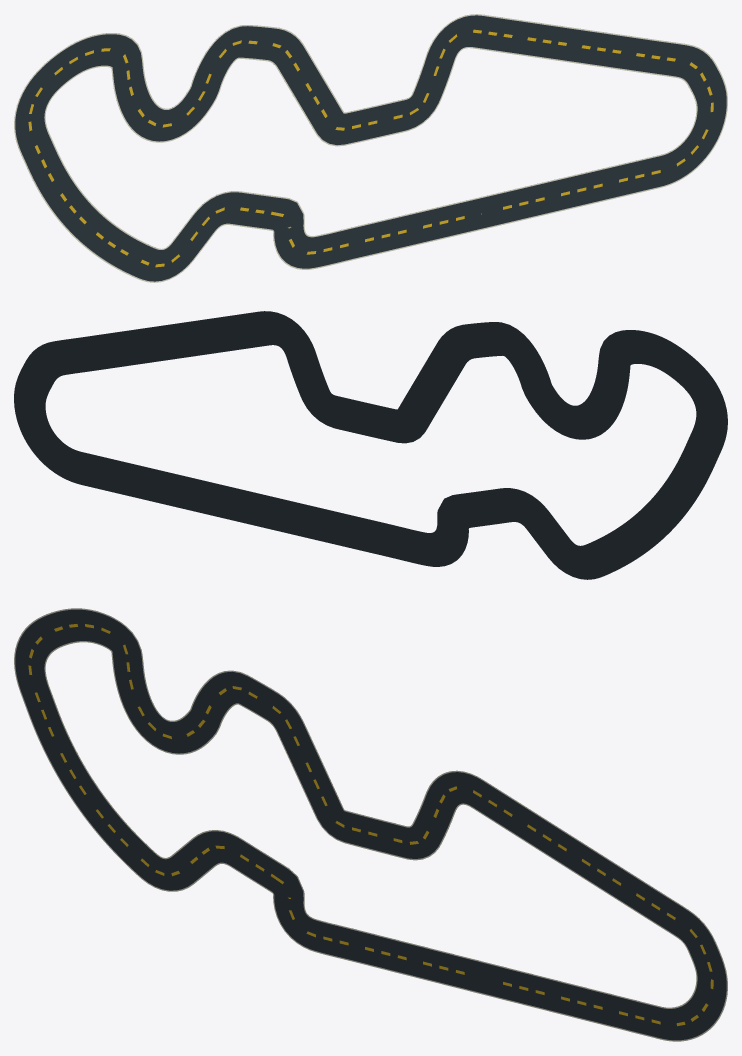
Rendered from track.obj.
3 views of the same model, one above another, from view 1: azimuth 30°, elevation 25°; view 2: azimuth 150°, elevation 25°; view 3: azimuth 330°, elevation 25° (orthographic).
Bounding box in the file's own units: 24.08 × 9.38 × 0.002.
